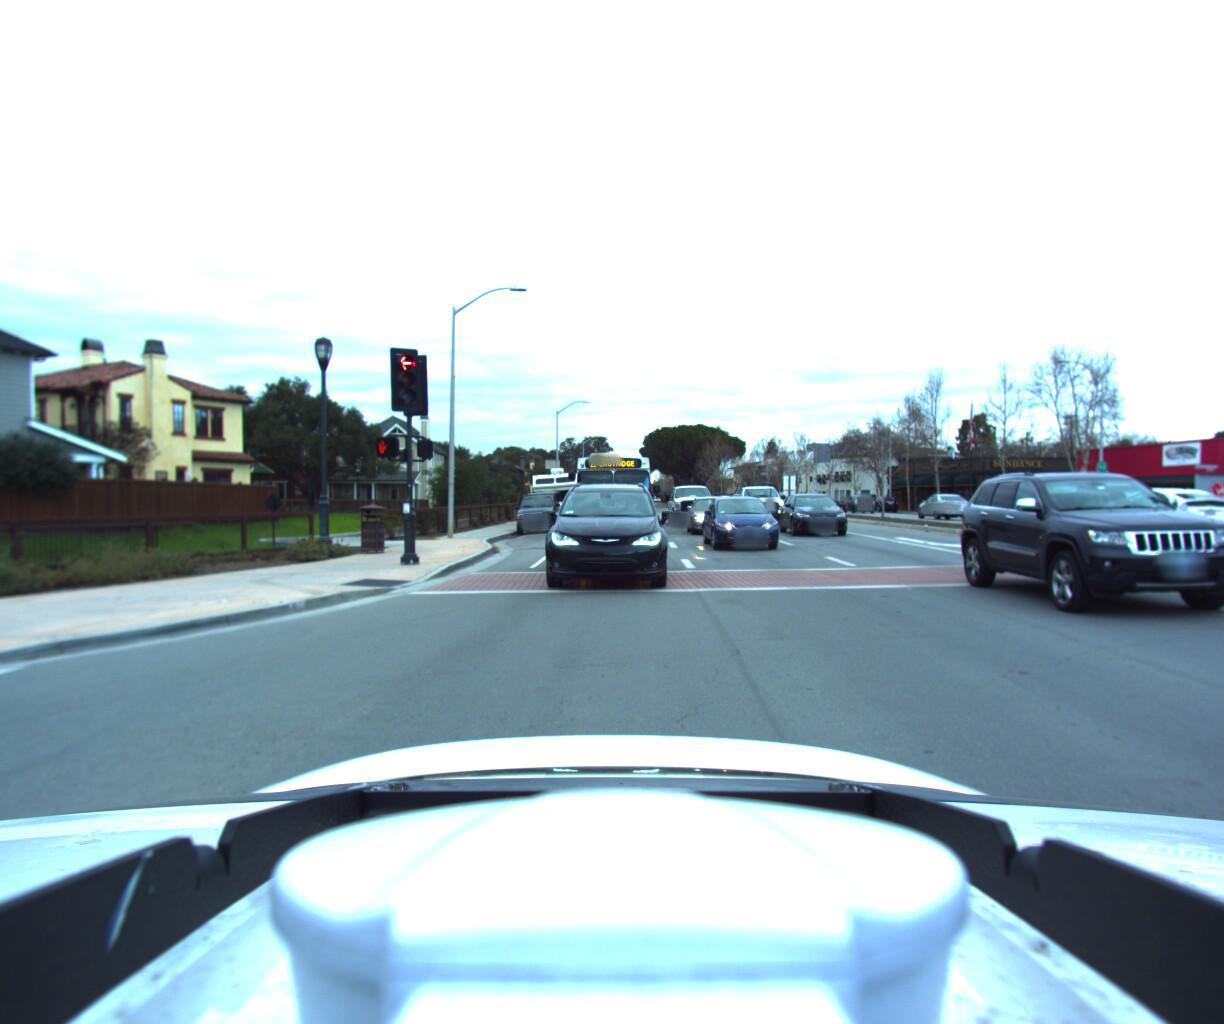bus: (565, 446, 654, 539)
car: (966, 454, 1224, 631), (535, 475, 661, 596), (1064, 484, 1215, 542), (696, 492, 783, 551), (774, 482, 855, 538), (725, 476, 787, 526), (679, 491, 743, 536), (508, 489, 561, 534), (665, 482, 713, 525), (905, 490, 968, 517), (836, 493, 871, 510)
other_vehicle: (521, 462, 582, 527)
